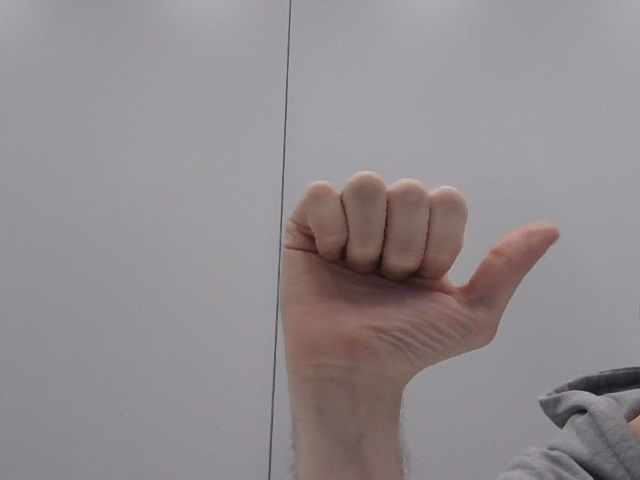left: (242, 146, 576, 397)
